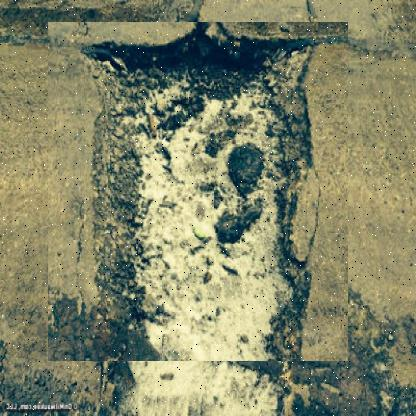pothole: (47, 22, 348, 362)
